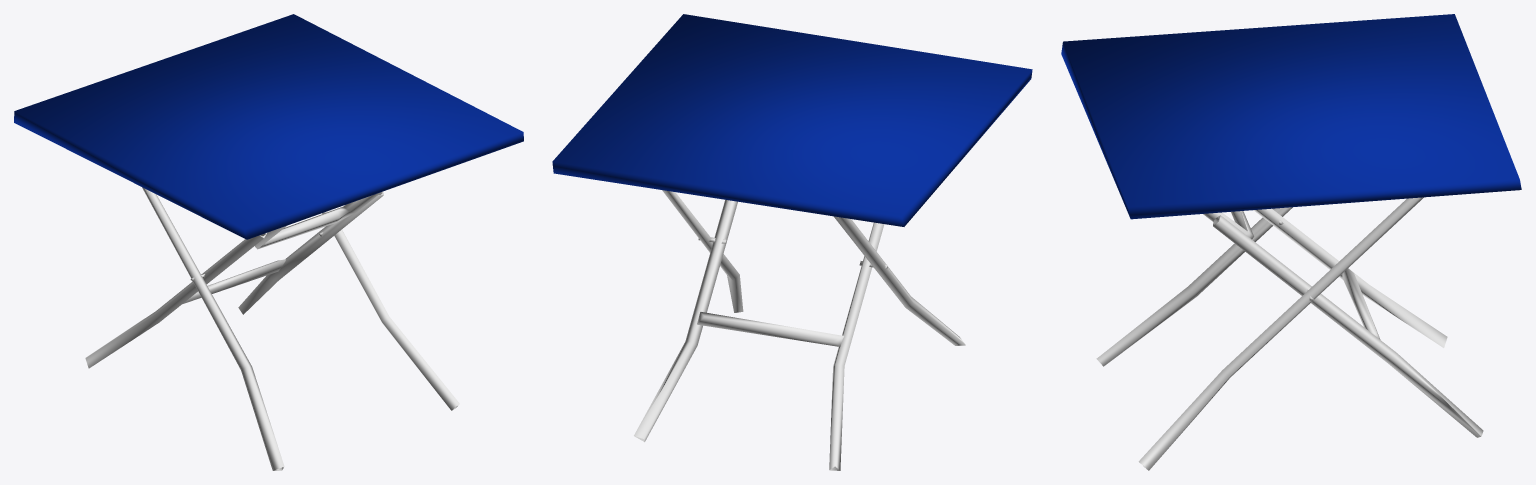
The model's file is table.fbx.
3 views of the same model, side by side, from view 1: azimuth 30°, elevation 25°; view 2: azimuth 150°, elevation 25°; view 3: azimuth 270°, elevation 25° (orthographic). The views are drawn at different scales.
Parts seen in each view (by area): view 1: Table.023; view 2: Table.023; view 3: Table.023.
Part boxes in pixels (x1,y1,x2,y2): Table.023: (14, 14, 523, 470); Table.023: (552, 14, 1032, 470); Table.023: (1061, 14, 1521, 470).
Bounding box in the file's own units: 158 × 112 × 158.
